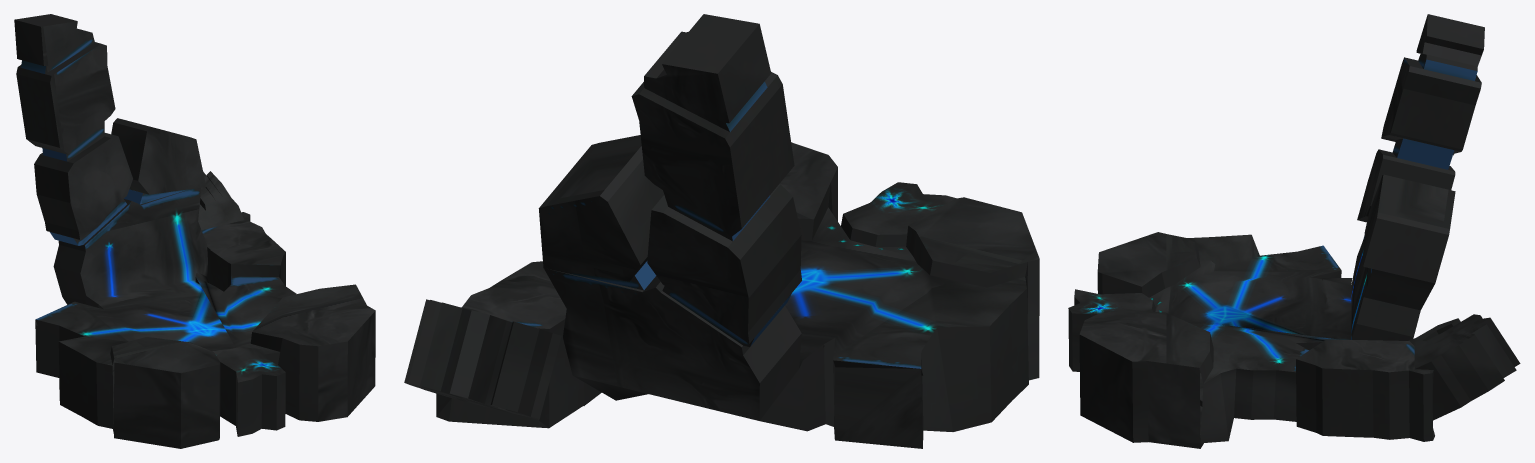
Rendered from Statue 1.obj.
The picture shows the model from 3 angles, left to right: view 1: azimuth 30°, elevation 25°; view 2: azimuth 150°, elevation 25°; view 3: azimuth 270°, elevation 25°; orthographic projection. The views are drawn at different scales.
Parts seen in each view (by area): view 1: Line002; view 2: Line002; view 3: Line002.
Boxes of the visible parts, x1,y1,x2,y2 form: Line002: (14,14,375,448); Line002: (404,14,1039,448); Line002: (1068,14,1520,448).
Bounding box in the file's own units: 66.91 × 71.74 × 89.96.
